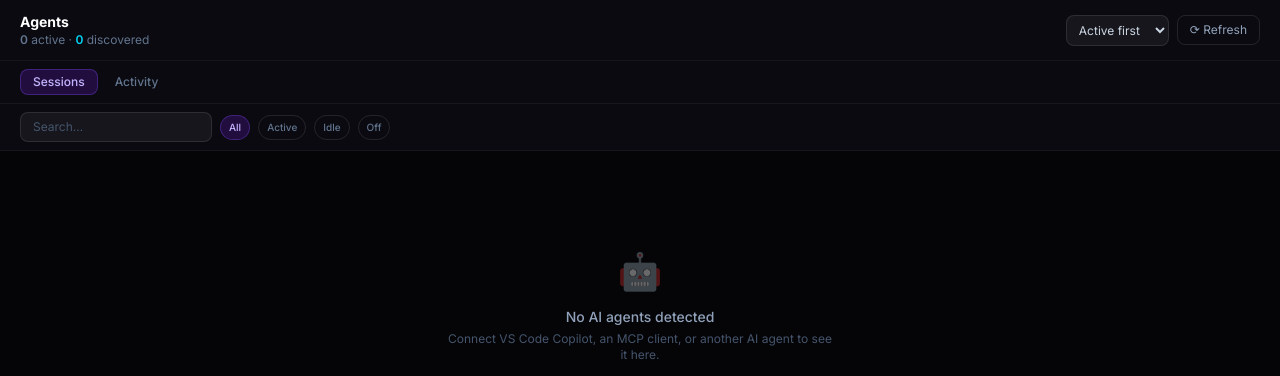
AgentsView — activity tab › filters by agent and project
Step 1. Click the button "Activity" → (136, 82), box [102, 69, 171, 95]
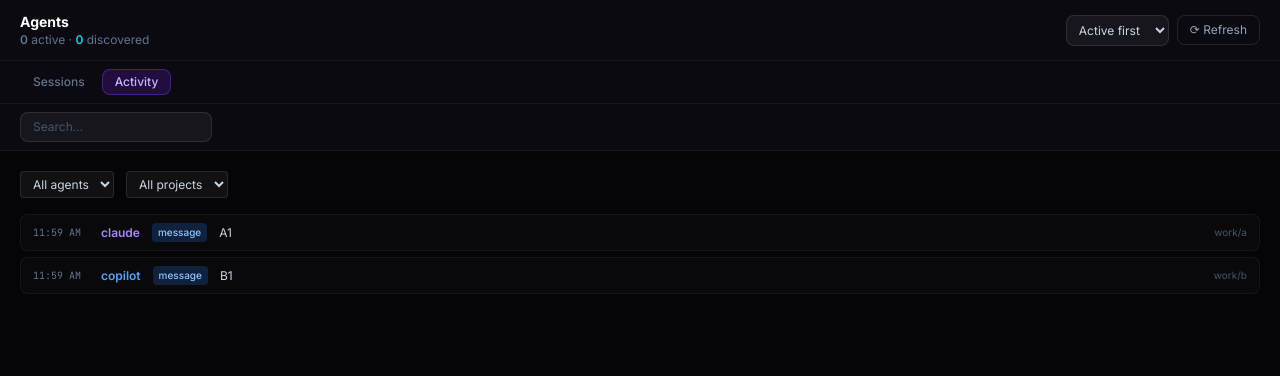
Step 2. Select "copilot" in the 2nd dropdown → (67, 184), box [20, 171, 114, 198]
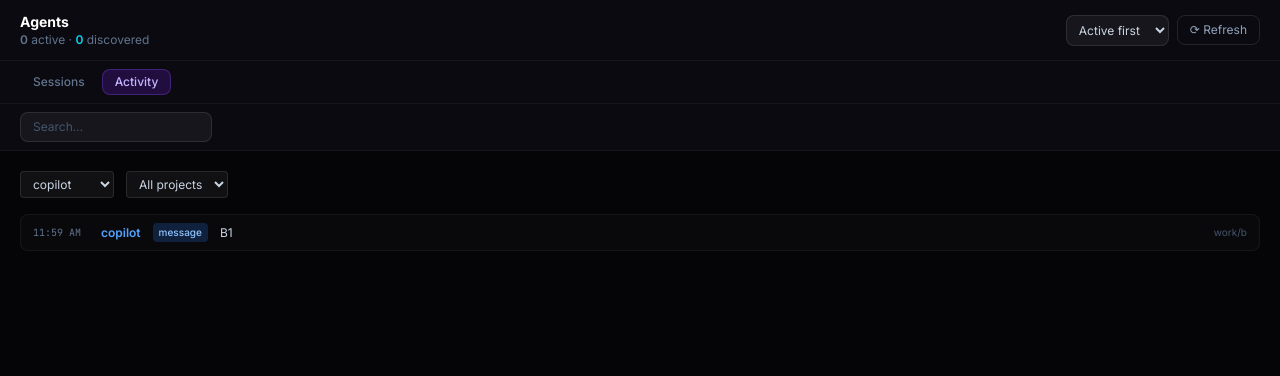
Now the text "B1" is shown, box [220, 224, 233, 240]
Now the text "A1" is gone
Step 3. Select "All agents" in the 2nd dropdown → (67, 184), box [20, 171, 114, 198]
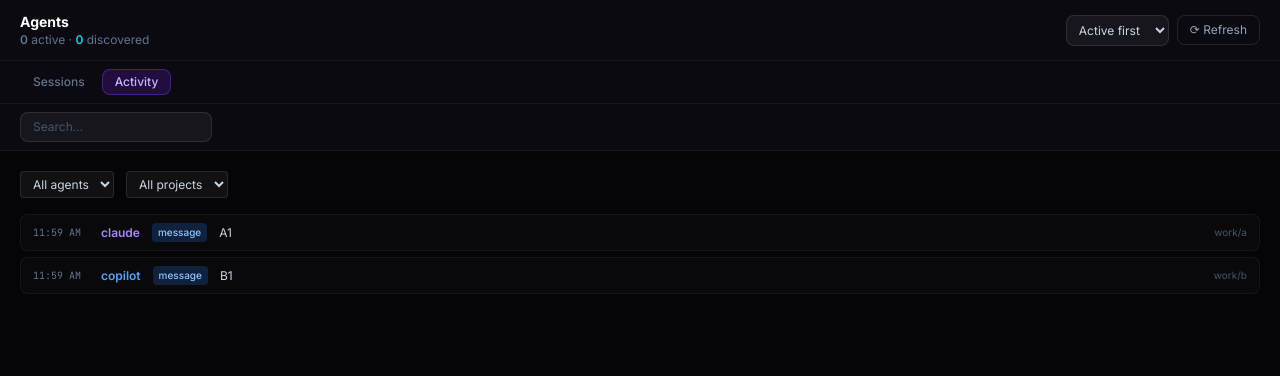
Step 4. Select "work/a" in the 3rd dropdown → (177, 184), box [126, 171, 228, 198]
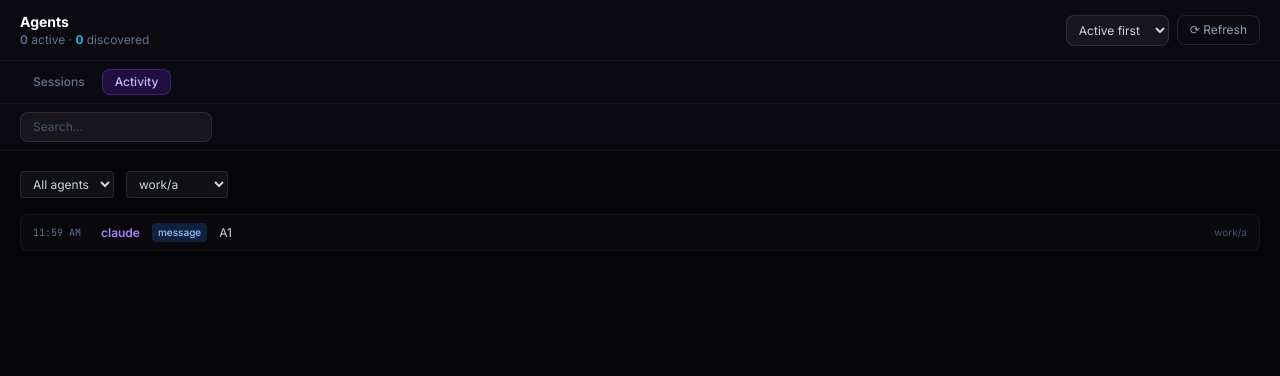
Now the text "A1" is shown, box [219, 224, 232, 240]
Now the text "B1" is gone
